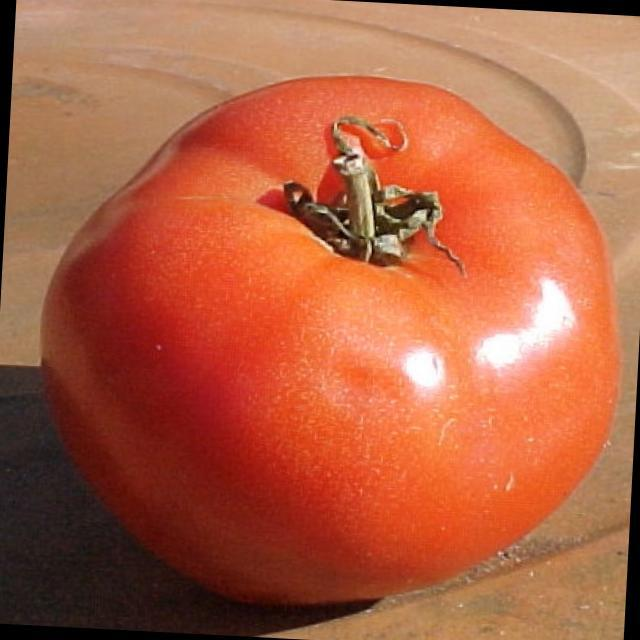TOMATO: (32, 61, 628, 620)
